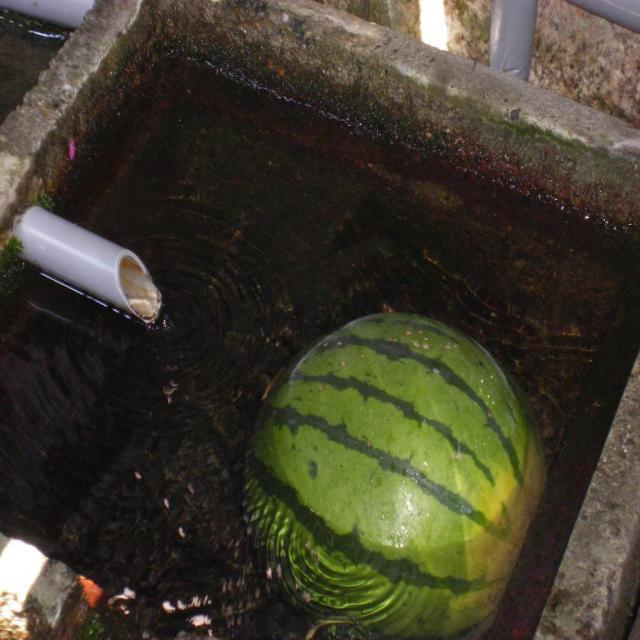Watermelon: (244, 309, 548, 640)
